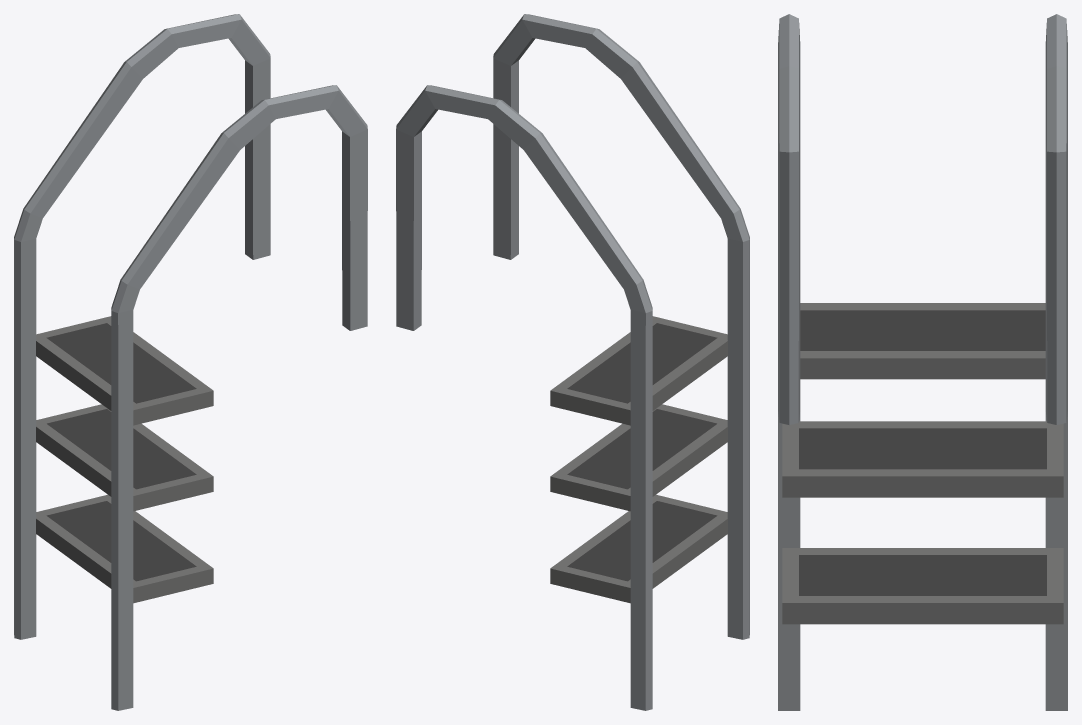
File: SM_Prop_Pool_Ladder_02.fbx
The picture shows the model from 3 angles, left to right: view 1: azimuth 30°, elevation 25°; view 2: azimuth 150°, elevation 25°; view 3: azimuth 270°, elevation 25°; orthographic projection. The views are drawn at different scales.
Visible parts, largest first — view 1: SM_Prop_Pool_Ladder_02; view 2: SM_Prop_Pool_Ladder_02; view 3: SM_Prop_Pool_Ladder_02.
Part boxes in pixels (x1,y1,x2,y2): SM_Prop_Pool_Ladder_02: (14, 14, 367, 710); SM_Prop_Pool_Ladder_02: (396, 14, 749, 710); SM_Prop_Pool_Ladder_02: (778, 14, 1067, 710).
Size of the model in its own units: 77.88 by 166 by 55.39.
